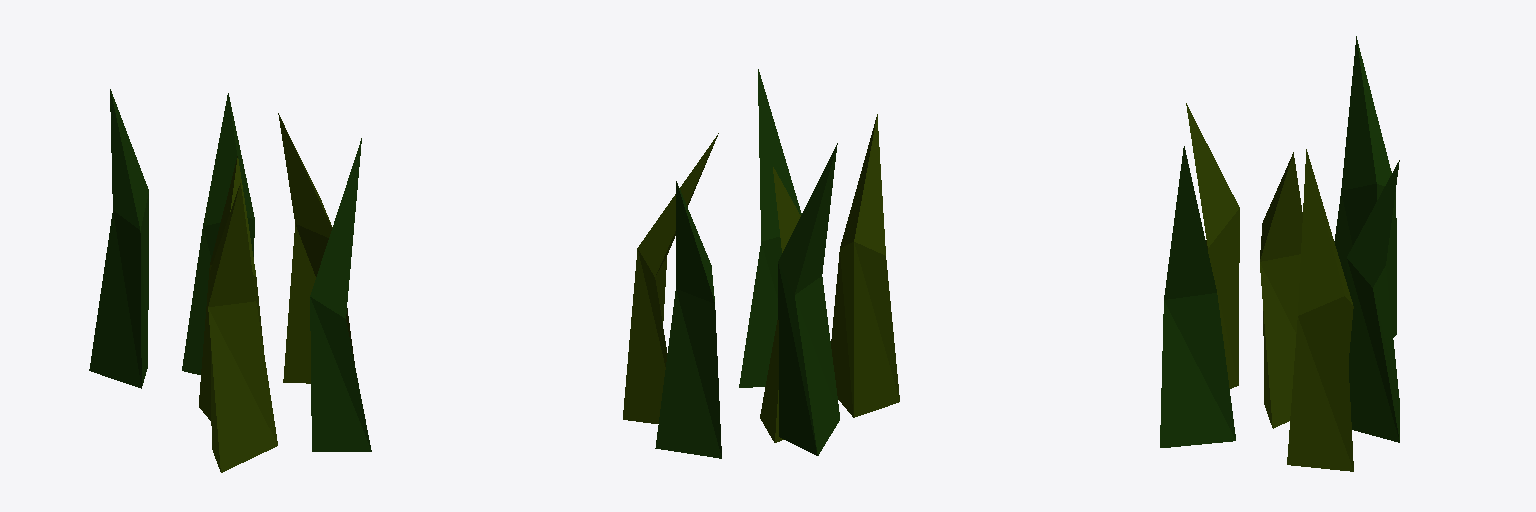
Rendered from Grama.obj.
3 views of the same model, side by side, from view 1: azimuth 30°, elevation 25°; view 2: azimuth 150°, elevation 25°; view 3: azimuth 270°, elevation 25° (orthographic).
Parts seen in each view (by area): view 1: Grama_Cube.004; view 2: Grama_Cube.004; view 3: Grama_Cube.004.
Part boxes in pixels (left/top/right/bottom): Grama_Cube.004: left=89, top=89, right=371, bottom=472; Grama_Cube.004: left=623, top=69, right=899, bottom=458; Grama_Cube.004: left=1160, top=36, right=1399, bottom=471.
Bounding box in the file's own units: 7.45 × 11 × 7.16.